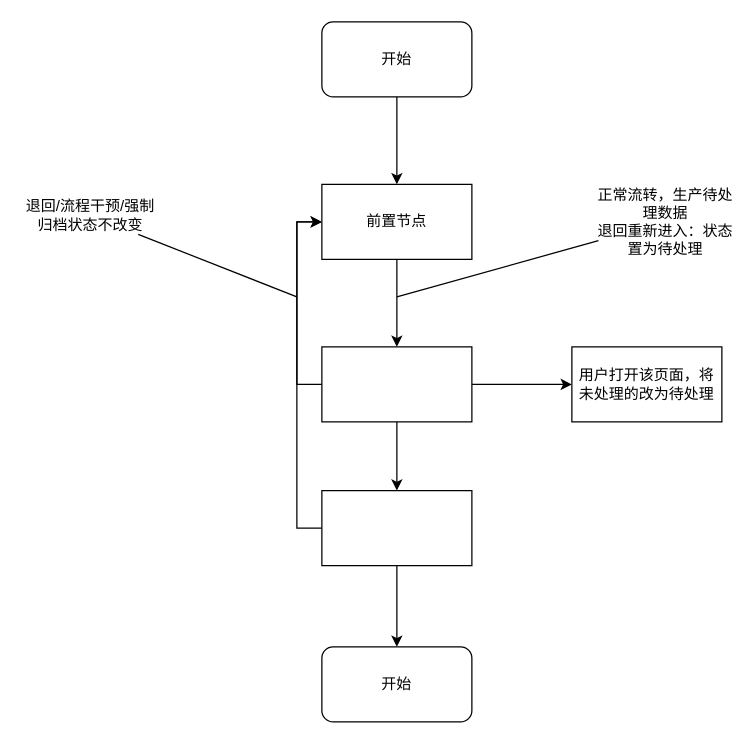
The diagram is 755 pixels wide and 744 high, and some of its shapes have lost their labels. Here are the shapes that lost their labels. From the top down, the centre of each, then its label:
At (x=396, y=384): "印章管理员节点".
At (x=396, y=527): "转入方确认/其他节点".
